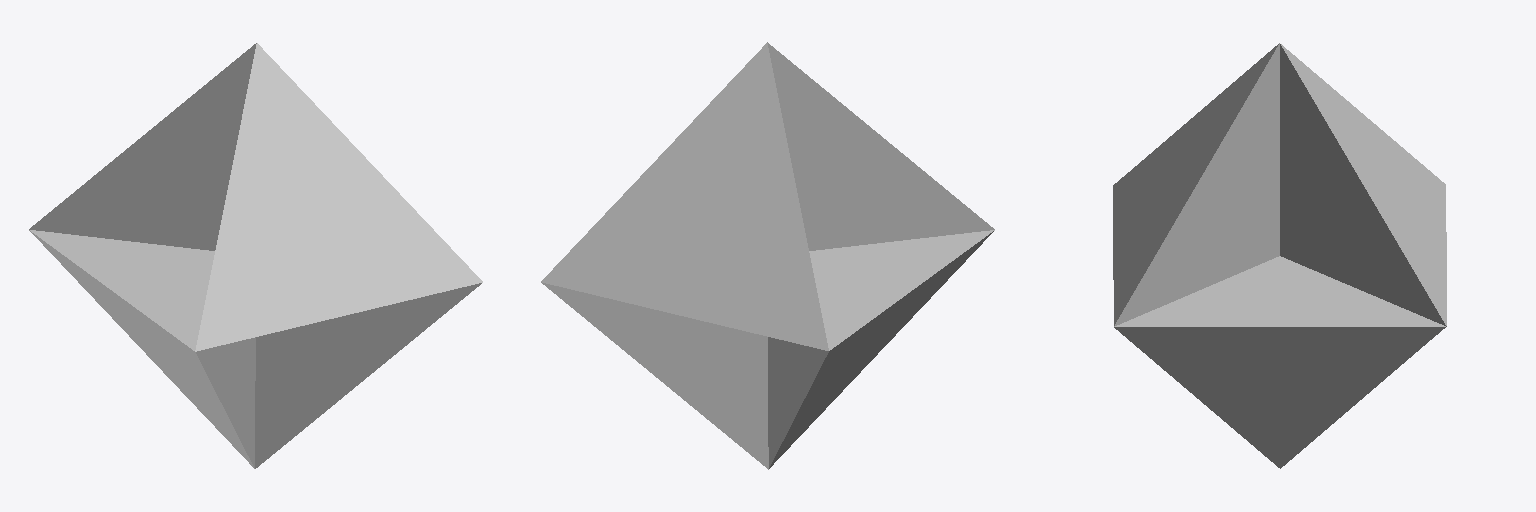
Rendered from TetraHemiHexahedron.obj.
3 views of the same model, side by side, from view 1: azimuth 30°, elevation 25°; view 2: azimuth 150°, elevation 25°; view 3: azimuth 270°, elevation 25° (orthographic).
Parts seen in each view (by area): view 1: TetrahemiHexahedron; view 2: TetrahemiHexahedron; view 3: TetrahemiHexahedron.
Part boxes in pixels (bbox=[...]): TetrahemiHexahedron: bbox=[29, 43, 482, 468]; TetrahemiHexahedron: bbox=[541, 42, 994, 469]; TetrahemiHexahedron: bbox=[1113, 43, 1446, 468].
Bounding box in the file's own units: 0.7505 × 1.06 × 0.7505.